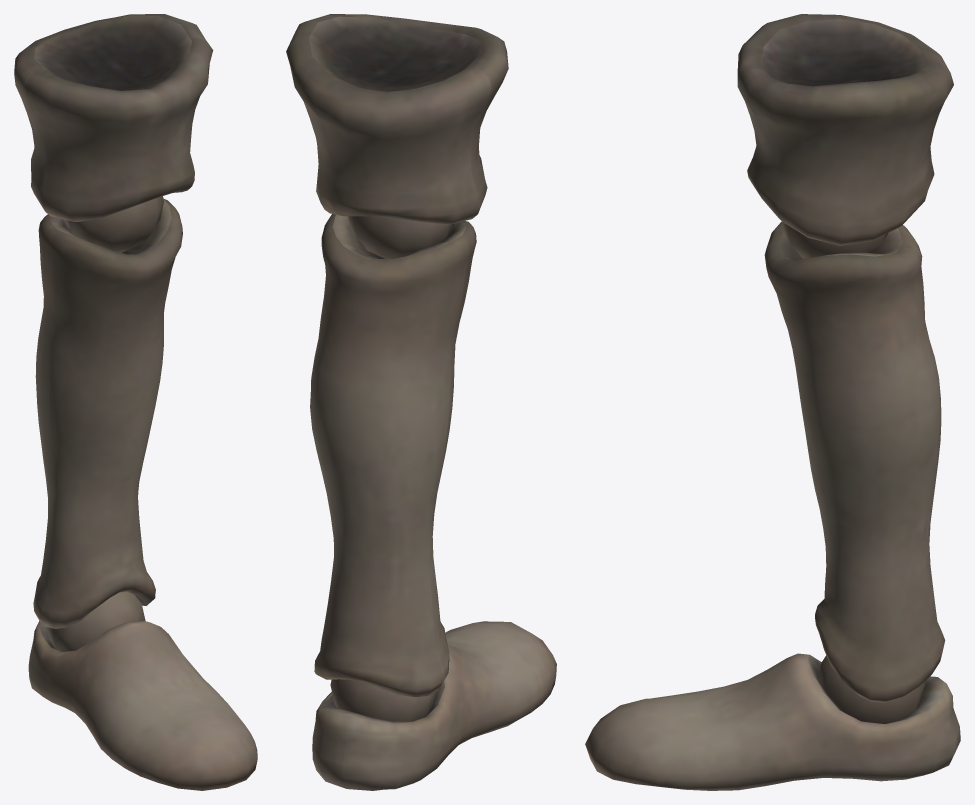
The model's file is Leg_1.fbx.
The picture shows the model from 3 angles, left to right: view 1: azimuth 30°, elevation 25°; view 2: azimuth 150°, elevation 25°; view 3: azimuth 270°, elevation 25°; orthographic projection. The views are drawn at different scales.
Visible parts, largest first — view 1: Leg_1; view 2: Leg_1; view 3: Leg_1.
Part boxes in pixels (left/top/right/bottom): Leg_1: left=14, top=14, right=257, bottom=790; Leg_1: left=286, top=14, right=556, bottom=790; Leg_1: left=585, top=14, right=960, bottom=790.
Bounding box in the file's own units: 34.9 × 124 × 58.79.
